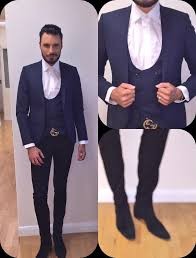F_M_suit jacket: (17, 59, 86, 144)
F_belt: (30, 125, 81, 141), (135, 113, 167, 133)
